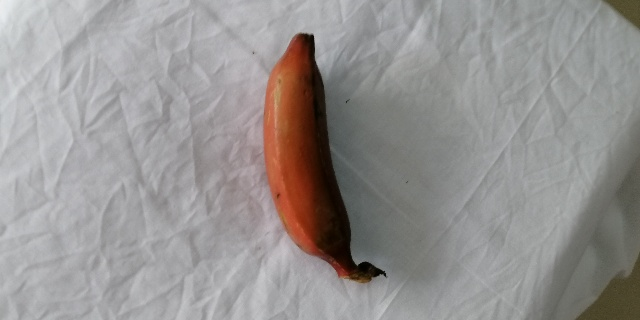banana_red: (262, 32, 389, 279)
